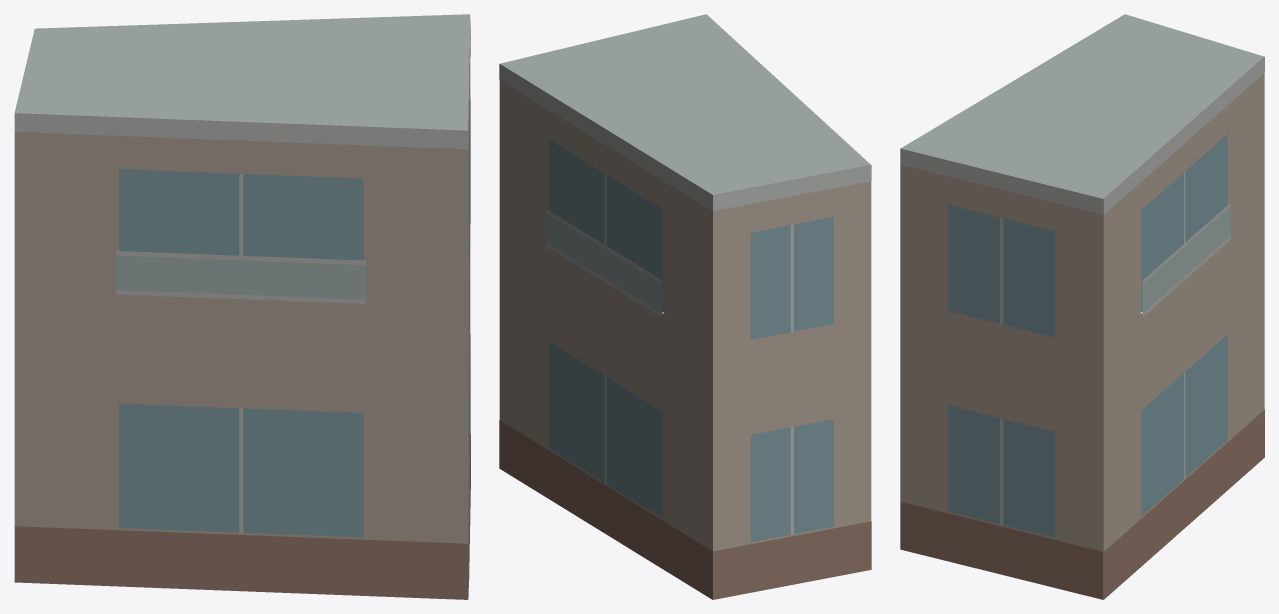
The model's file is survey-upis-32661968.glb.
3 renders of one model, left to right at view 1: azimuth 30°, elevation 25°; view 2: azimuth 150°, elevation 25°; view 3: azimuth 270°, elevation 25°, orthographic. The views are drawn at different scales.
Parts seen in each view (by area): view 1: survey-upis-32661968.tmp; view 2: survey-upis-32661968.tmp; view 3: survey-upis-32661968.tmp.
Boxes of the visible parts, bbox=[...] form: survey-upis-32661968.tmp: bbox=[14, 14, 470, 599]; survey-upis-32661968.tmp: bbox=[499, 14, 871, 599]; survey-upis-32661968.tmp: bbox=[900, 14, 1264, 599].
Bounding box in the file's own units: 6.04 × 6.1 × 5.03.
